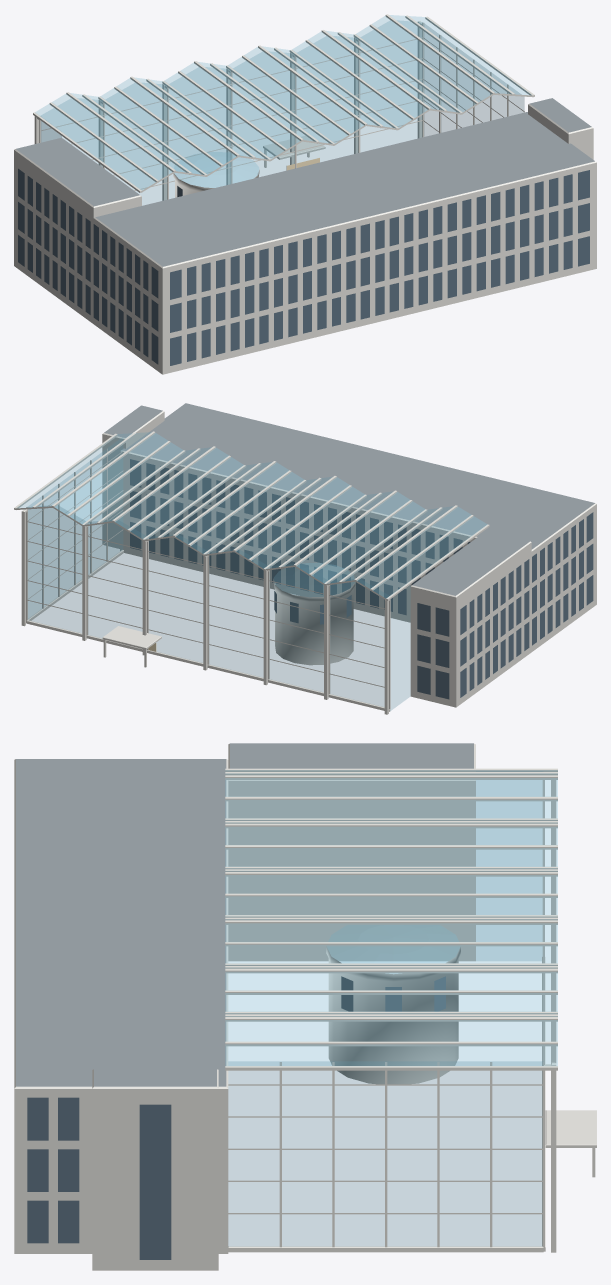
The model's file is phx-oconnor-courthouse.glb.
The picture shows the model from 3 angles, top to bottom: view 1: azimuth 30°, elevation 25°; view 2: azimuth 150°, elevation 25°; view 3: azimuth 270°, elevation 25°; orthographic projection. The views are drawn at different scales.
Visible parts, largest first — view 1: Sandra Day O'Connor U.S. Courthouse; view 2: Sandra Day O'Connor U.S. Courthouse; view 3: Sandra Day O'Connor U.S. Courthouse.
Boxes of the visible parts, bbox=[...] form: Sandra Day O'Connor U.S. Courthouse: bbox=[14, 14, 596, 374]; Sandra Day O'Connor U.S. Courthouse: bbox=[14, 403, 596, 714]; Sandra Day O'Connor U.S. Courthouse: bbox=[14, 743, 596, 1270].
Size of the model in its own units: 138 by 39.08 by 98.65.
